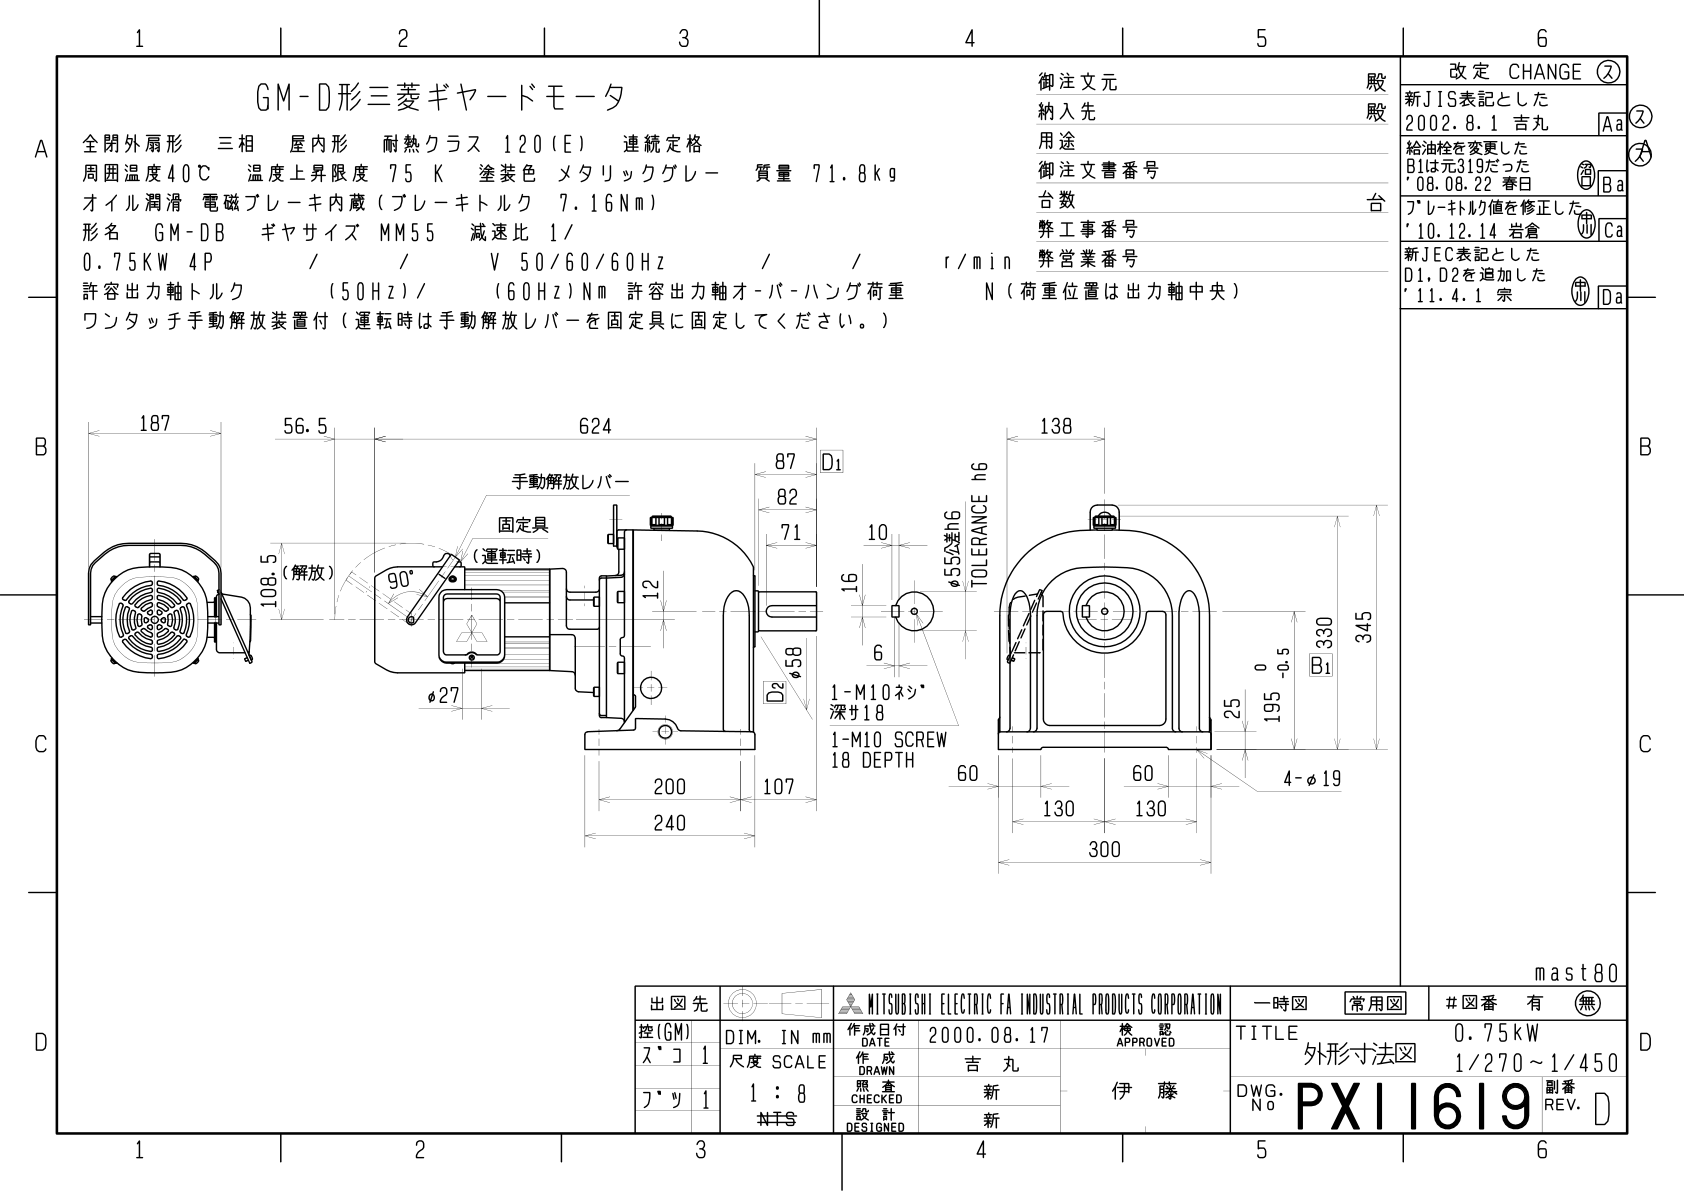GM_D_手動解放ブレーキ＿三相_脚: (70, 382, 1393, 914)
